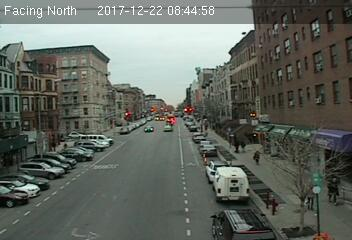car: (211, 208, 275, 240), (205, 158, 229, 181), (200, 145, 218, 156)
truck: (213, 166, 250, 202)
